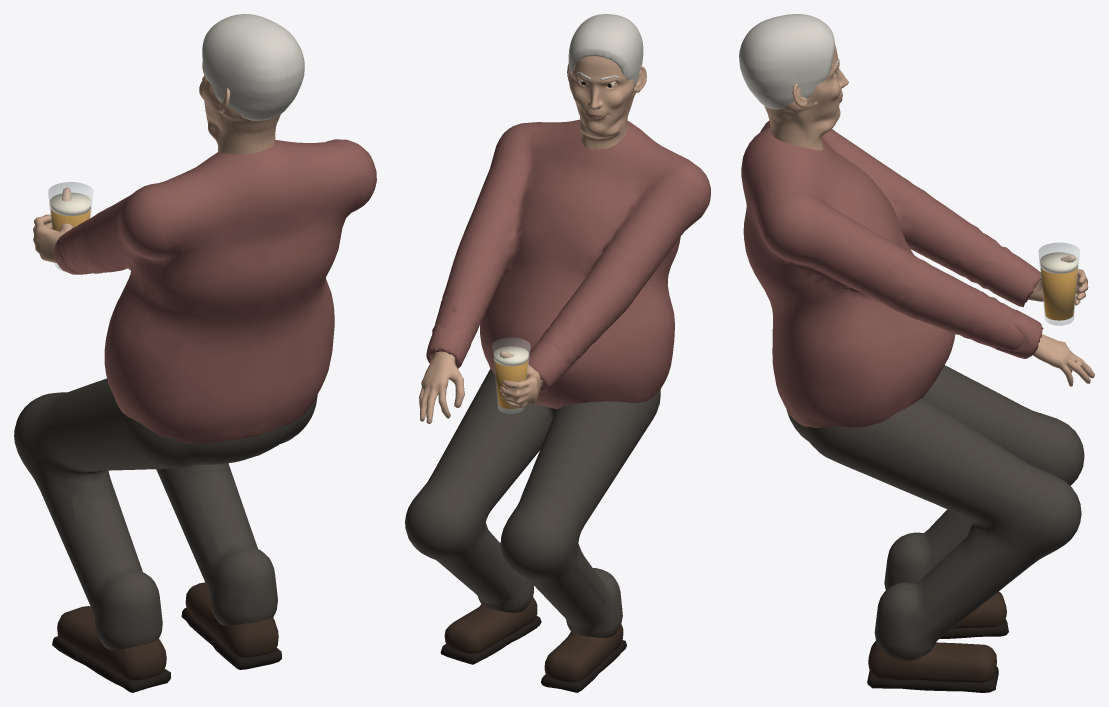
File: patron_f.glb
3 renders of one model, left to right at view 1: azimuth 30°, elevation 25°; view 2: azimuth 150°, elevation 25°; view 3: azimuth 270°, elevation 25°, orthographic. The views are drawn at different scales.
Visible parts, largest first — view 1: patron_f_body, patron_f_head, pint, patron_f_hands, pint_foam; view 2: patron_f_body, patron_f_head, patron_f_hands, pint, pint_beer, pint_foam; view 3: patron_f_body, patron_f_head, patron_f_hands, pint, pint_beer, pint_foam.
Boxes of the visible parts, left/top/right/bottom form: patron_f_body: left=14, top=139, right=376, bottom=692; patron_f_head: left=199, top=14, right=304, bottom=154; pint: left=48, top=182, right=93, bottom=270; patron_f_hands: left=33, top=187, right=88, bottom=274; pint_foam: left=50, top=192, right=91, bottom=215; patron_f_body: left=405, top=119, right=710, bottom=692; patron_f_head: left=567, top=14, right=646, bottom=149; patron_f_hands: left=419, top=324, right=568, bottom=423; pint: left=492, top=337, right=530, bottom=413; pint_beer: left=494, top=360, right=528, bottom=408; pint_foam: left=494, top=346, right=528, bottom=366; patron_f_body: left=741, top=120, right=1084, bottom=692; patron_f_head: left=739, top=14, right=848, bottom=150; patron_f_hands: left=989, top=253, right=1094, bottom=386; pint: left=1038, top=243, right=1079, bottom=325; pint_beer: left=1041, top=268, right=1077, bottom=320; pint_foam: left=1040, top=252, right=1078, bottom=273.
Bounding box in the file's own units: 0.5353 × 1.44 × 0.7298.
